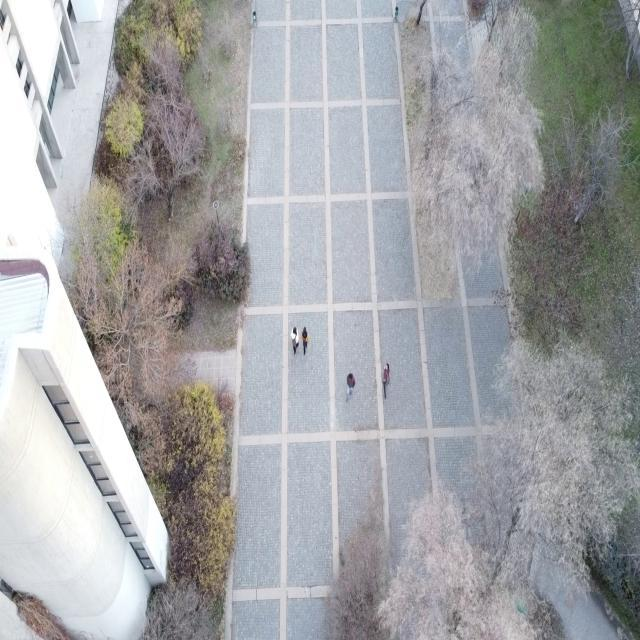vehicle: (382, 363, 390, 401), (290, 327, 300, 357), (346, 373, 356, 402), (300, 326, 308, 354)
